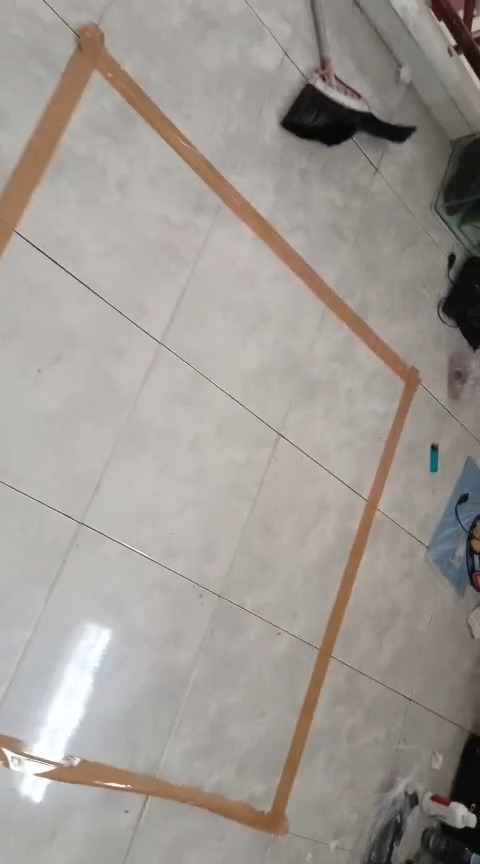floor marking: (0, 24, 419, 835)
